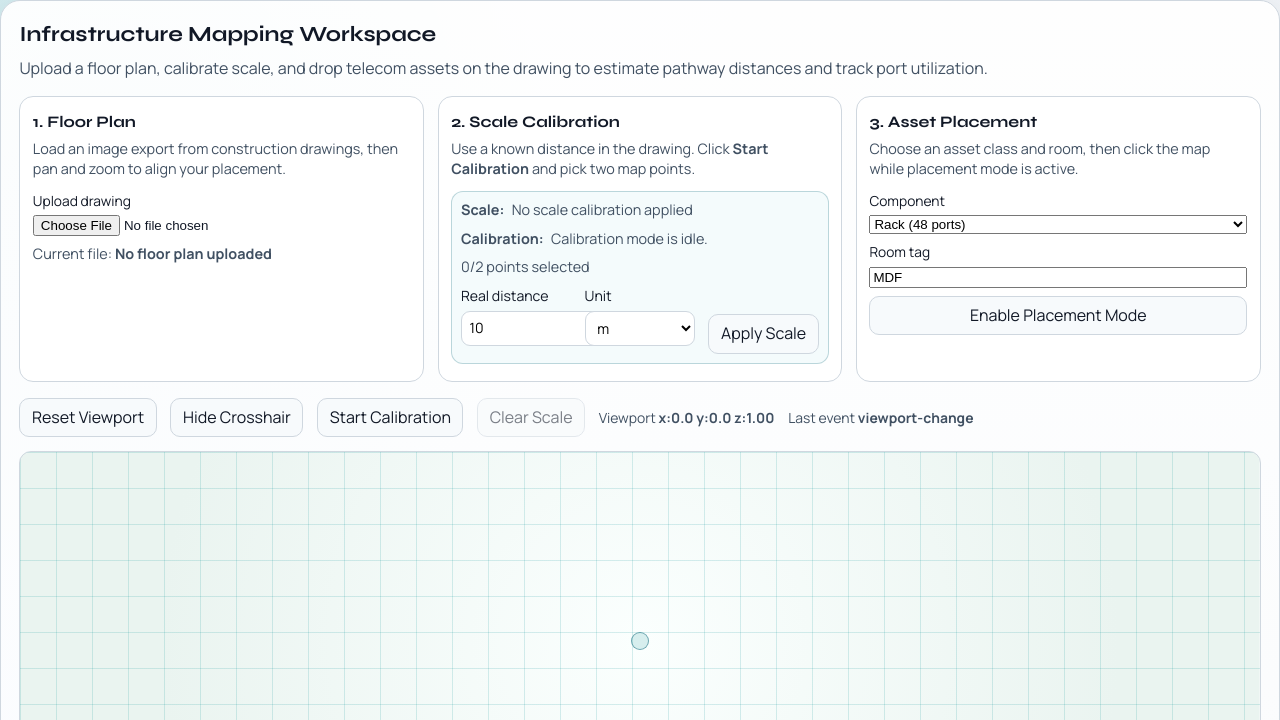
Test case: MapSandboxPage › shows validation error when scale is applied without points
What coordinates should you click on to do the following:
click the button "Apply Scale"
I would click on:
 (764, 334)
Its box is 708,314 -> 819,354.
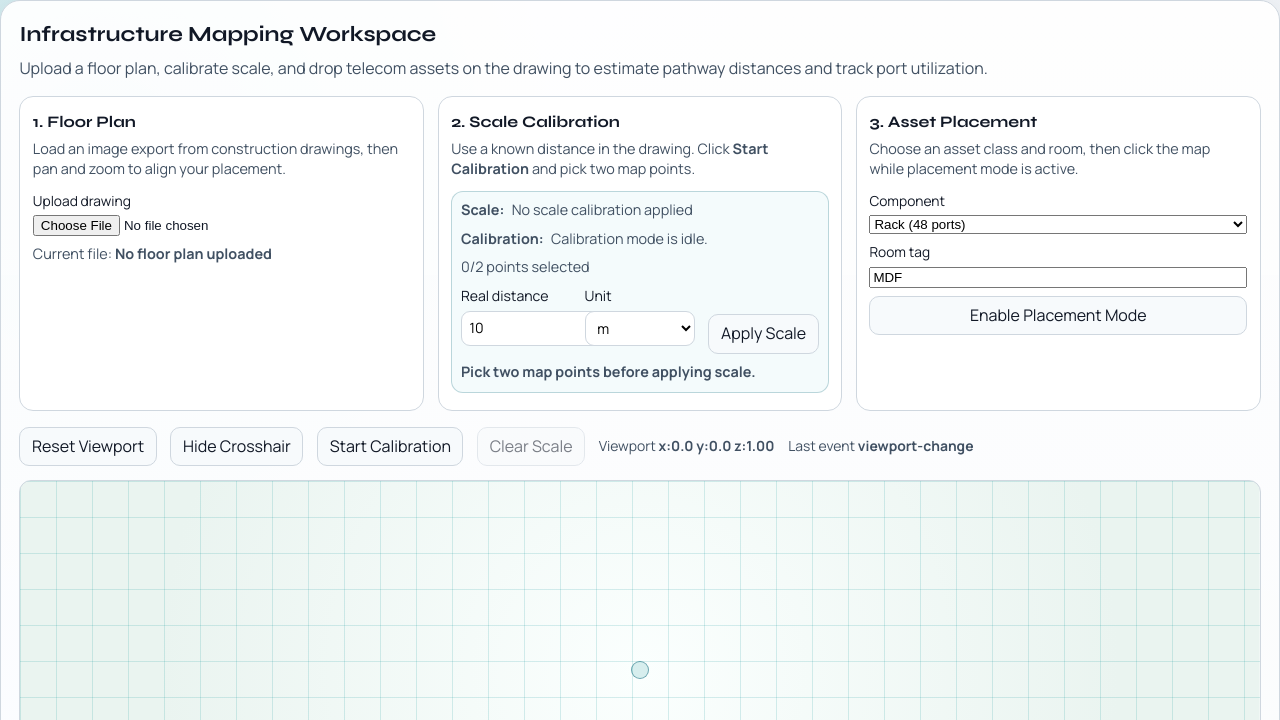
Expected: the text "Pick two map points before applying scale." is shown, 461,362 -> 756,381
